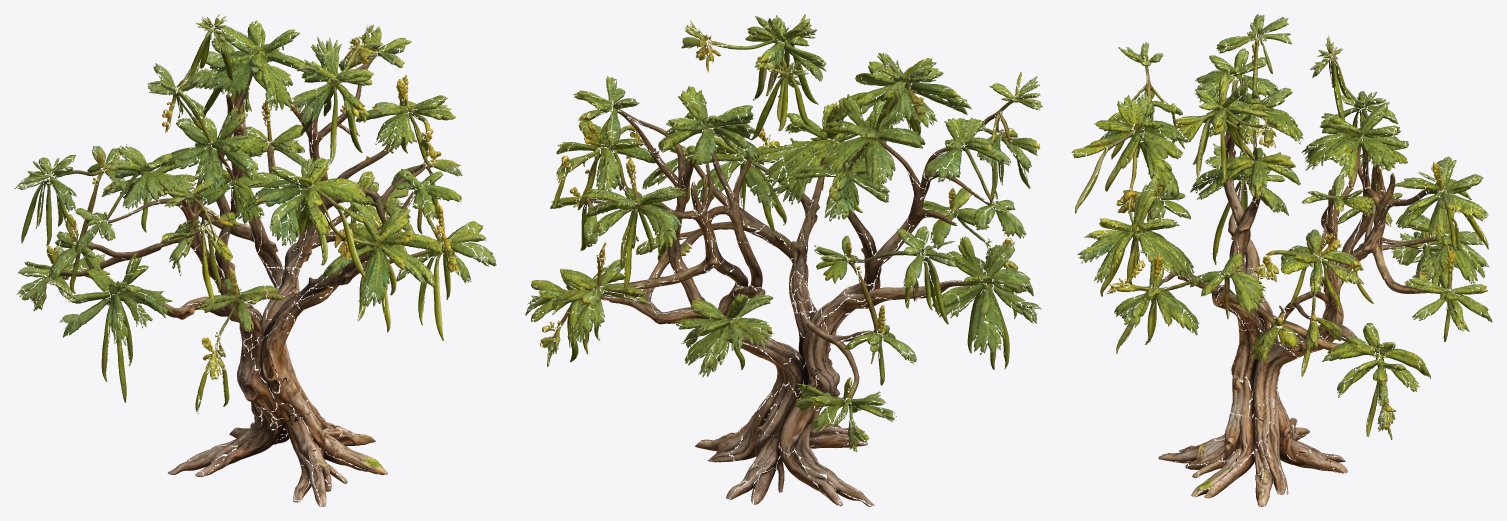
Rendered from ghaf.glb.
The picture shows the model from 3 angles, left to right: view 1: azimuth 30°, elevation 25°; view 2: azimuth 150°, elevation 25°; view 3: azimuth 270°, elevation 25°; orthographic projection. The views are drawn at different scales.
Parts seen in each view (by area): view 1: tripo_node_a12eeee9-6667-40fd-9ca3-d2f4e8d224bf; view 2: tripo_node_a12eeee9-6667-40fd-9ca3-d2f4e8d224bf; view 3: tripo_node_a12eeee9-6667-40fd-9ca3-d2f4e8d224bf.
Part boxes in pixels (<box>): tripo_node_a12eeee9-6667-40fd-9ca3-d2f4e8d224bf: <box>14,14,496,506</box>; tripo_node_a12eeee9-6667-40fd-9ca3-d2f4e8d224bf: <box>525,14,1042,506</box>; tripo_node_a12eeee9-6667-40fd-9ca3-d2f4e8d224bf: <box>1071,14,1492,506</box>.
Bounding box in the file's own units: 0.9843 × 0.9302 × 0.8672.
1 material, 1 textured.
